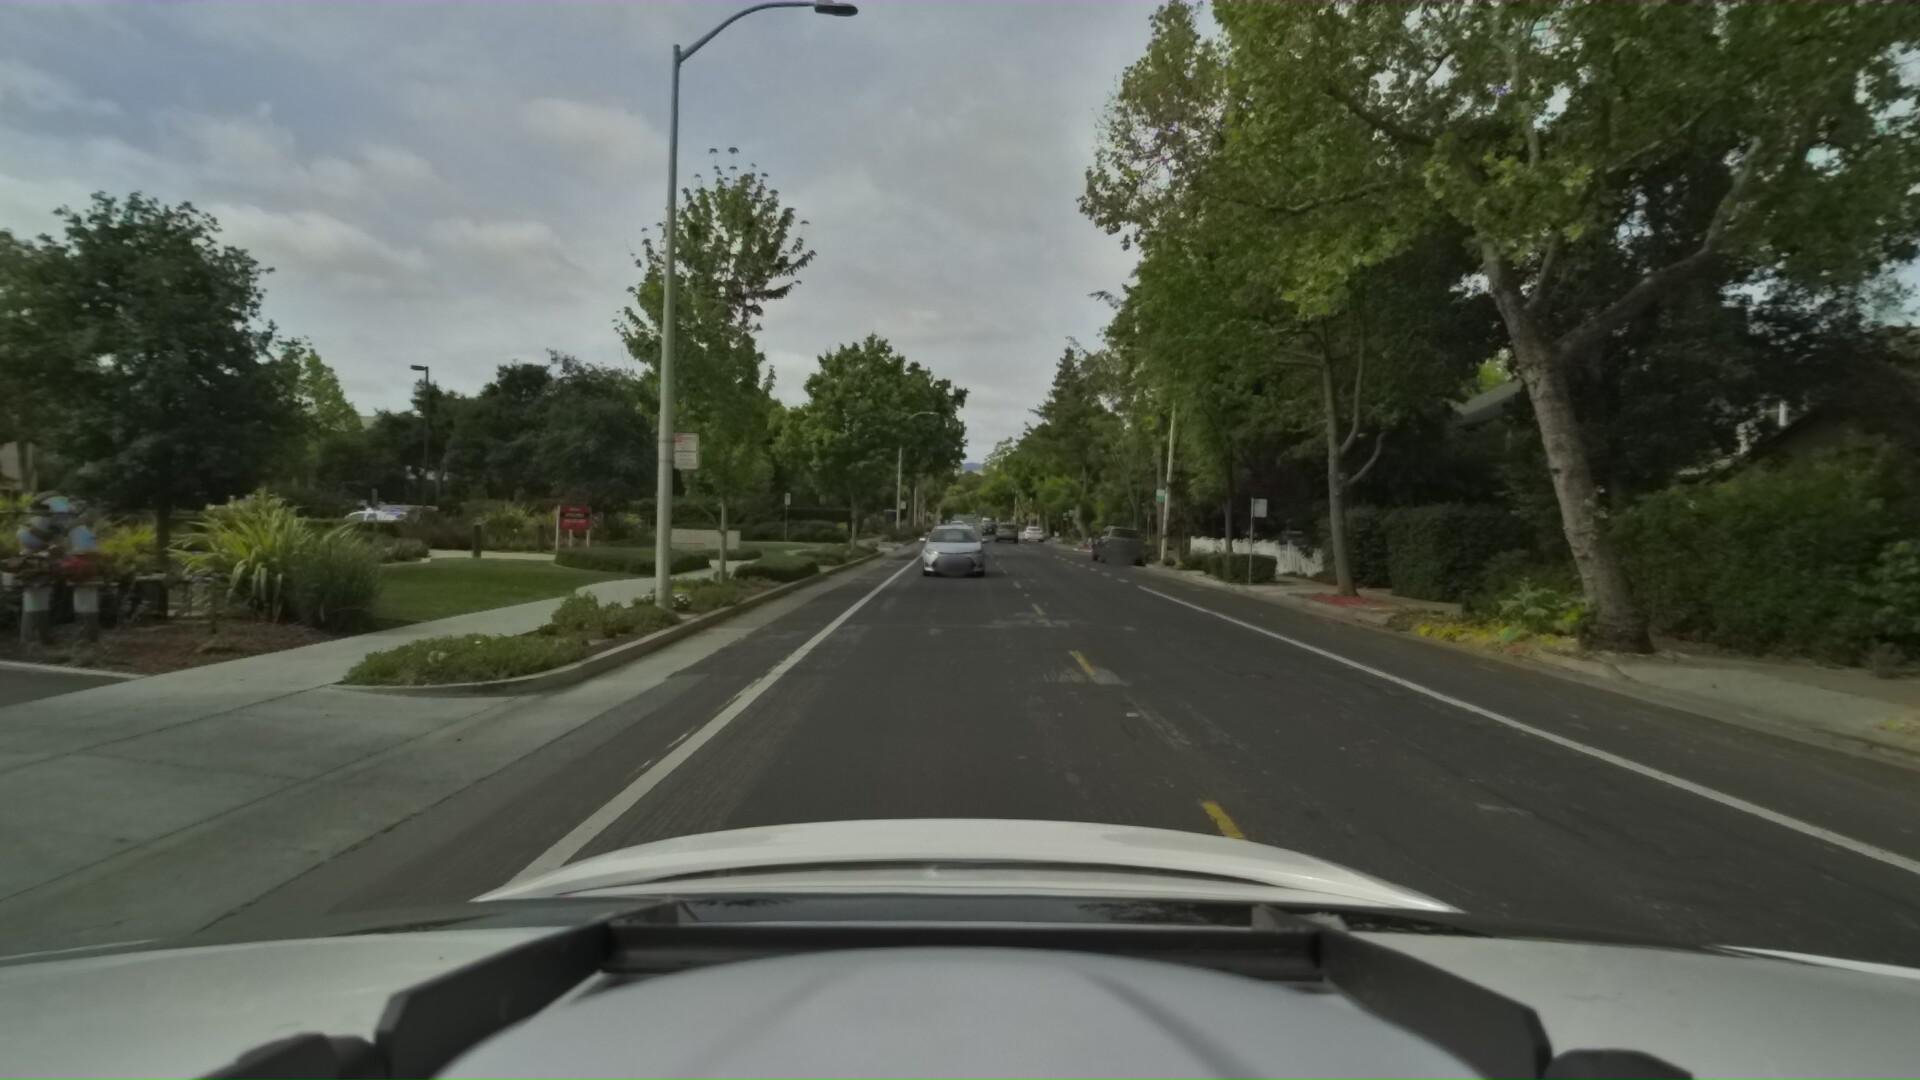car: (916, 516, 989, 576), (1087, 520, 1146, 562), (992, 517, 1015, 539)
